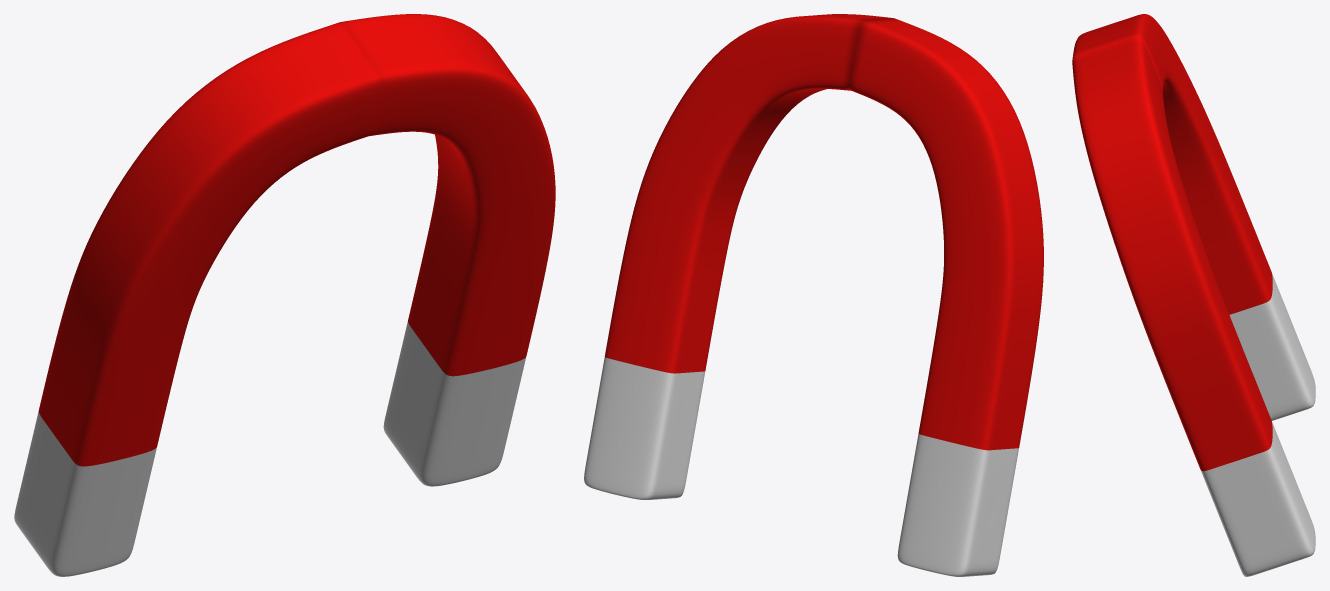
The picture shows the model from 3 angles, left to right: view 1: azimuth 30°, elevation 25°; view 2: azimuth 150°, elevation 25°; view 3: azimuth 270°, elevation 25°; orthographic projection. The views are drawn at different scales.
Parts seen in each view (by area): view 1: Cube; view 2: Cube; view 3: Cube.
Part boxes in pixels (x1,y1,x2,y2): Cube: (14, 14, 555, 576); Cube: (584, 14, 1043, 576); Cube: (1072, 14, 1315, 576).
Bounding box in the file's own units: 1086 × 1267 × 615.
